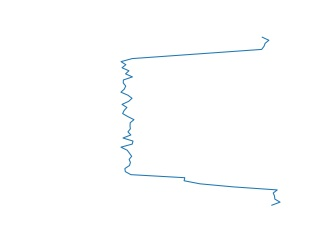distributaryChannelFill: (116, 36, 287, 206)
